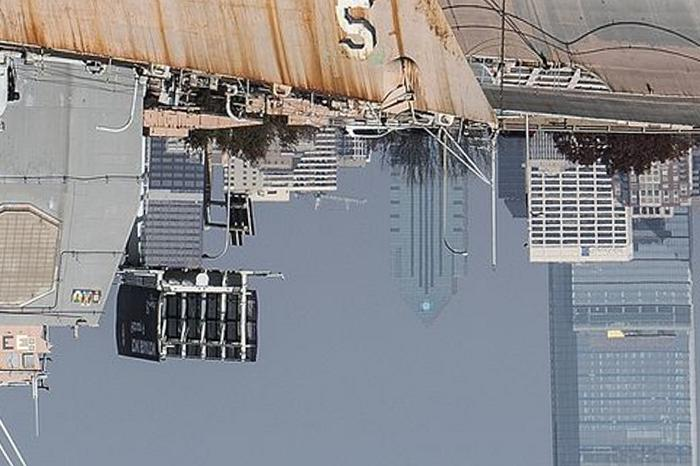rust: (203, 6, 344, 89), (386, 3, 459, 117), (70, 5, 177, 60), (1, 4, 60, 51)
